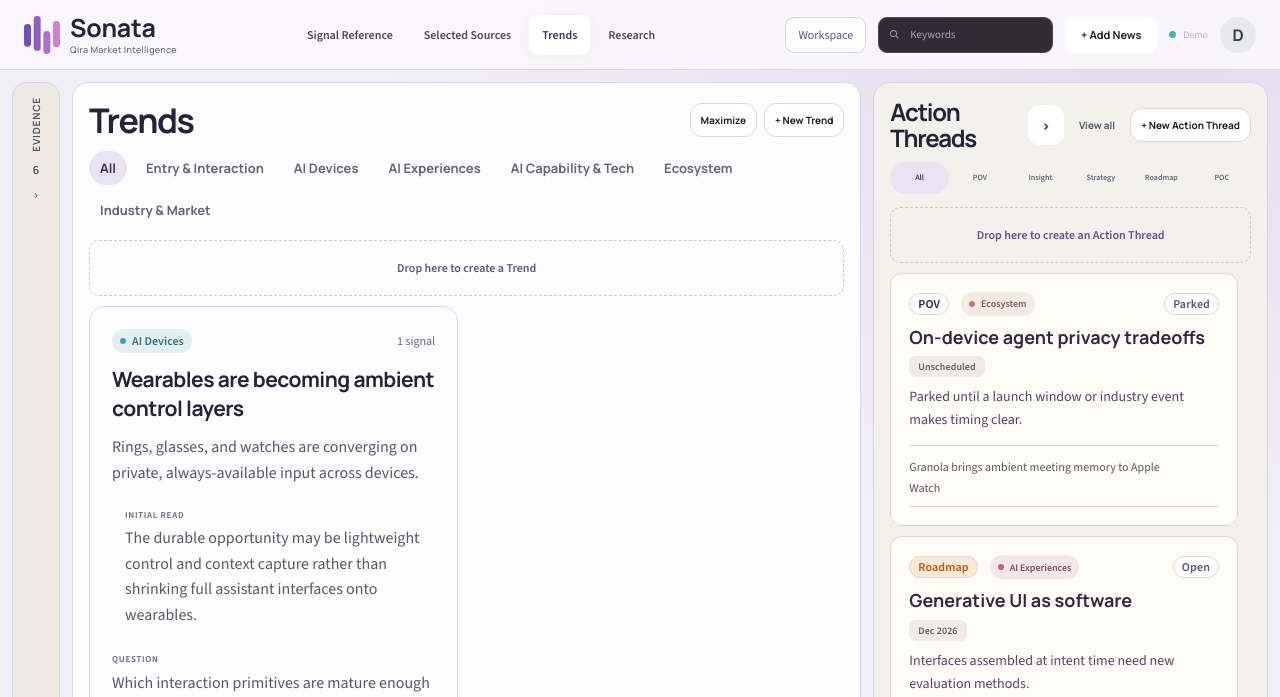
Test: dashboard pilot shell › falls back to one browser tab and direct links without a batch-capable extension
Click the button "Signal Reference": (350, 34) [294, 14, 406, 54]
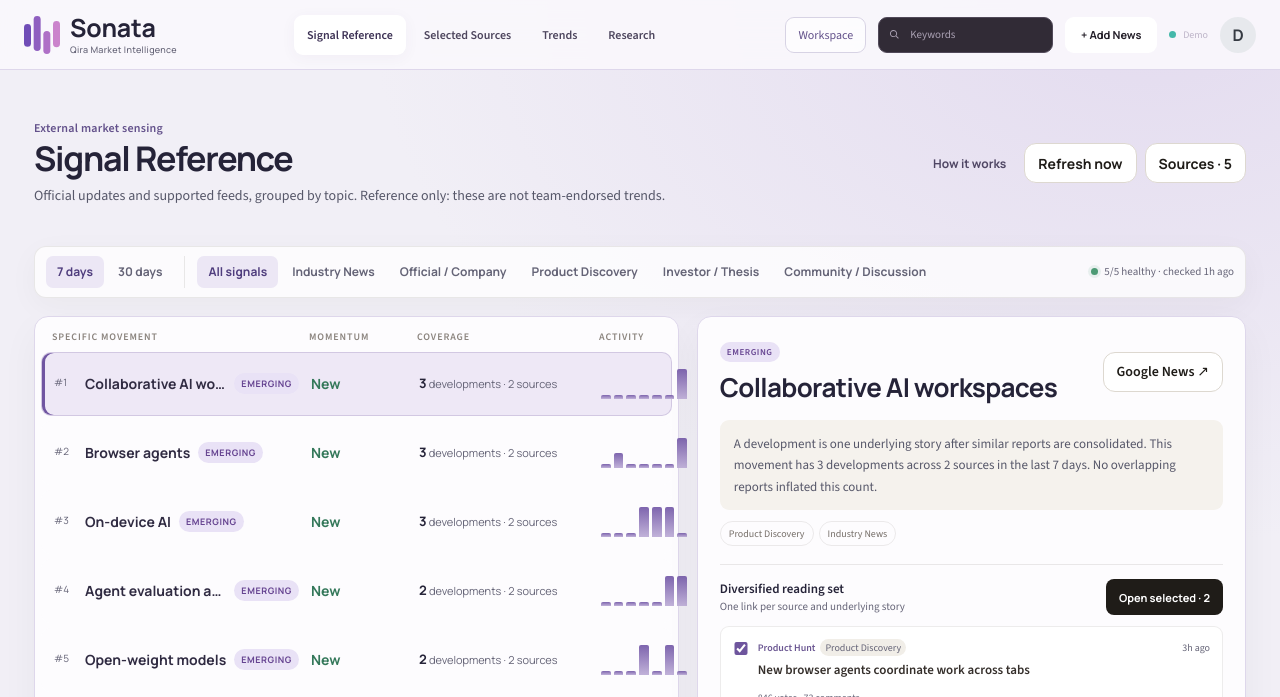
Click the button "Open selected · 2": (1164, 597) [1106, 579, 1223, 615]
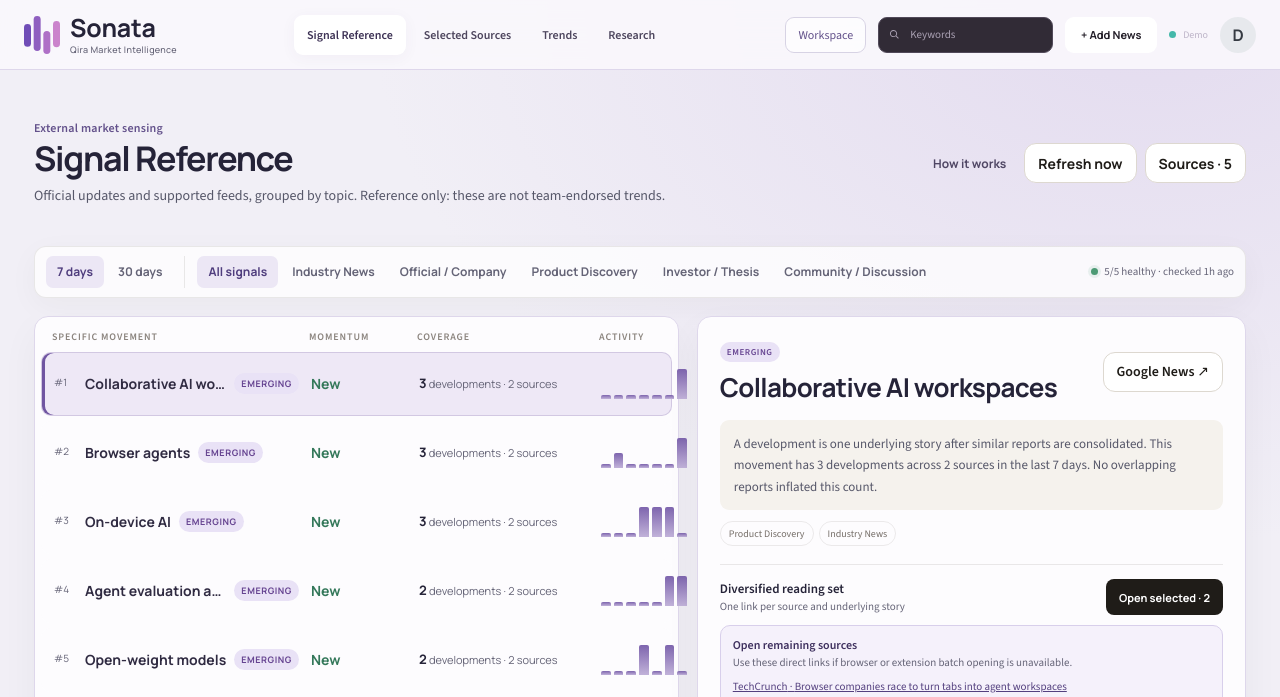
Check: the text "Open remaining sources" is shown, box [733, 637, 857, 653]
Check: the link "·" is shown, box [733, 679, 1067, 694]
